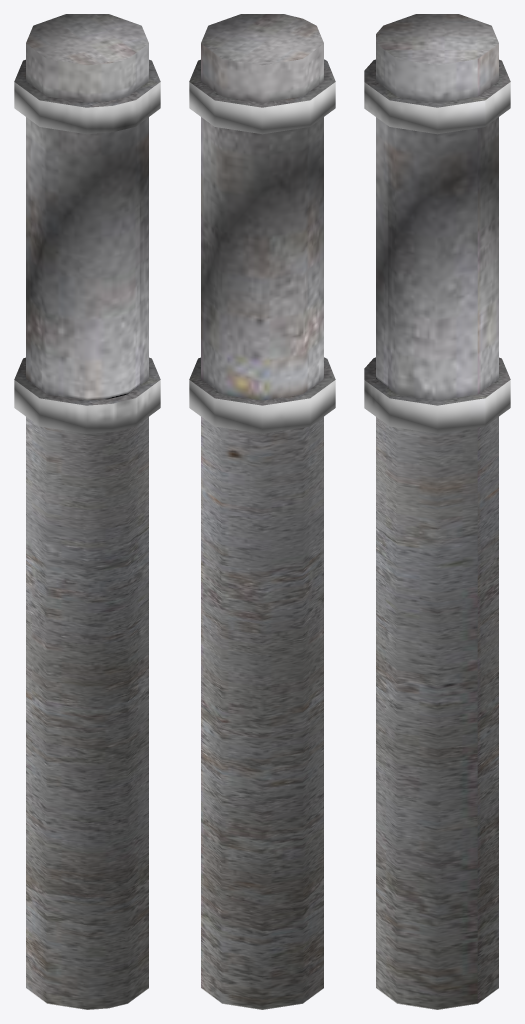
Rendered from nick_metal_sign_post.gltf.
3 views of the same model, side by side, from view 1: azimuth 30°, elevation 25°; view 2: azimuth 150°, elevation 25°; view 3: azimuth 270°, elevation 25° (orthographic).
Parts seen in each view (by area): view 1: metal_post; view 2: metal_post; view 3: metal_post.
Part boxes in pixels (<box>): metal_post: <box>14,14,160,1009</box>; metal_post: <box>189,14,335,1009</box>; metal_post: <box>364,14,510,1009</box>.
Bounding box in the file's own units: 4.54 × 32.77 × 4.61.
Materials: 1 (1 with a texture image).
